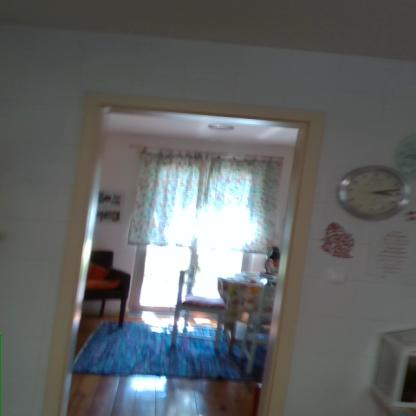semi: (57, 87, 330, 408)
